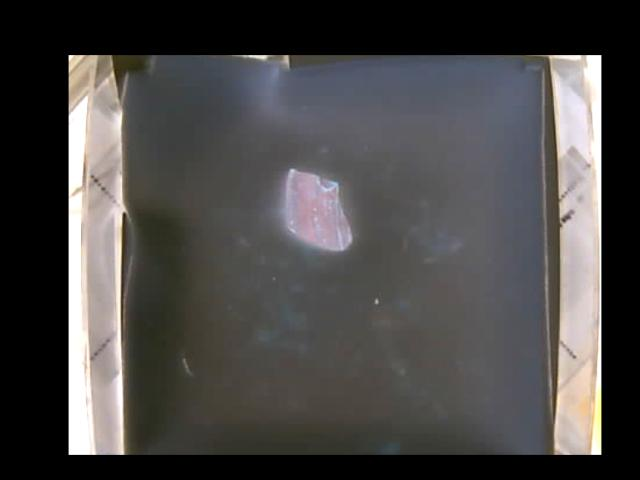China: (283, 168, 354, 254)
